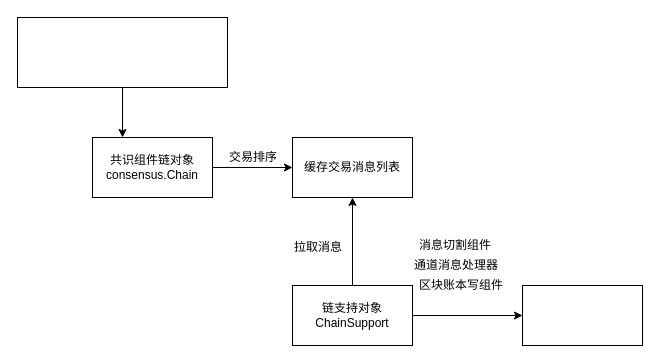
Image size: 660x363. Some labels were removed from this diagram. Each missing label, with the centre of its shape:
打包出块 通道管理: point 582,315
链支持对象过滤、重新构造消息 processor.ProcessConfigUpdateMsg() processor.Configure(): point 122,52
